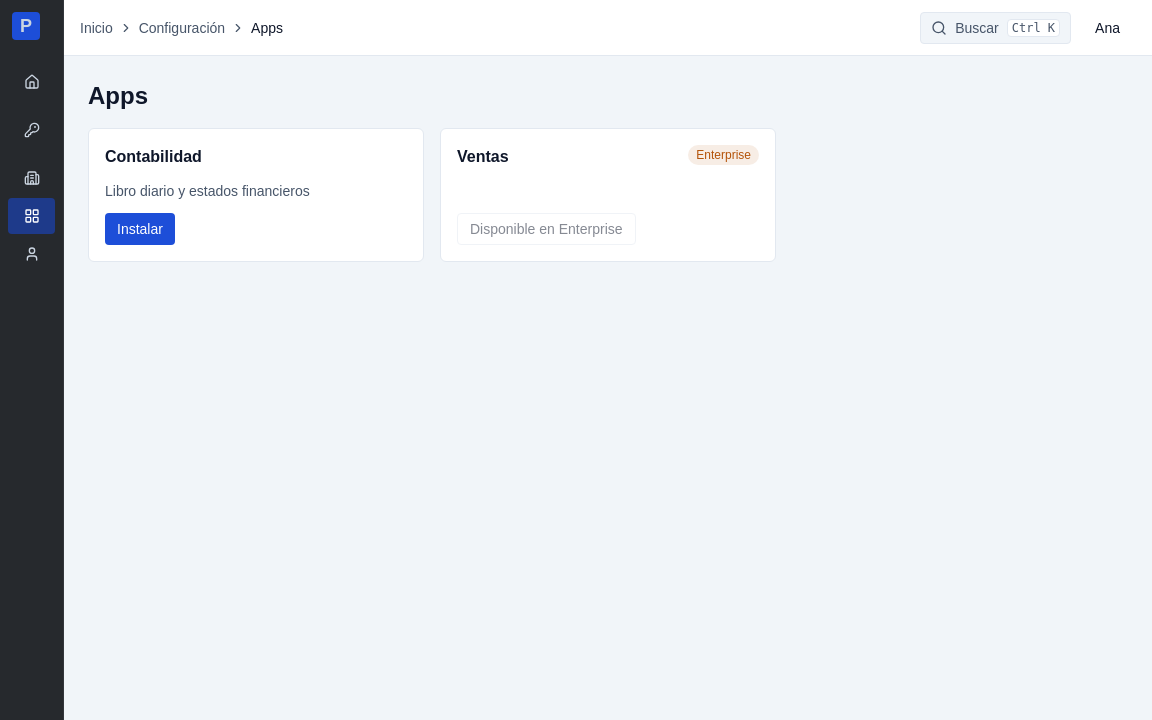
pantalla Apps (ADR-030) › un 403 PLT-011 muestra el mensaje de Enterprise
This screenshot has width=1152, height=720.
Click the button with aria-label "Instalar Contabilidad".
click(140, 229)  # box [105,213,175,245]
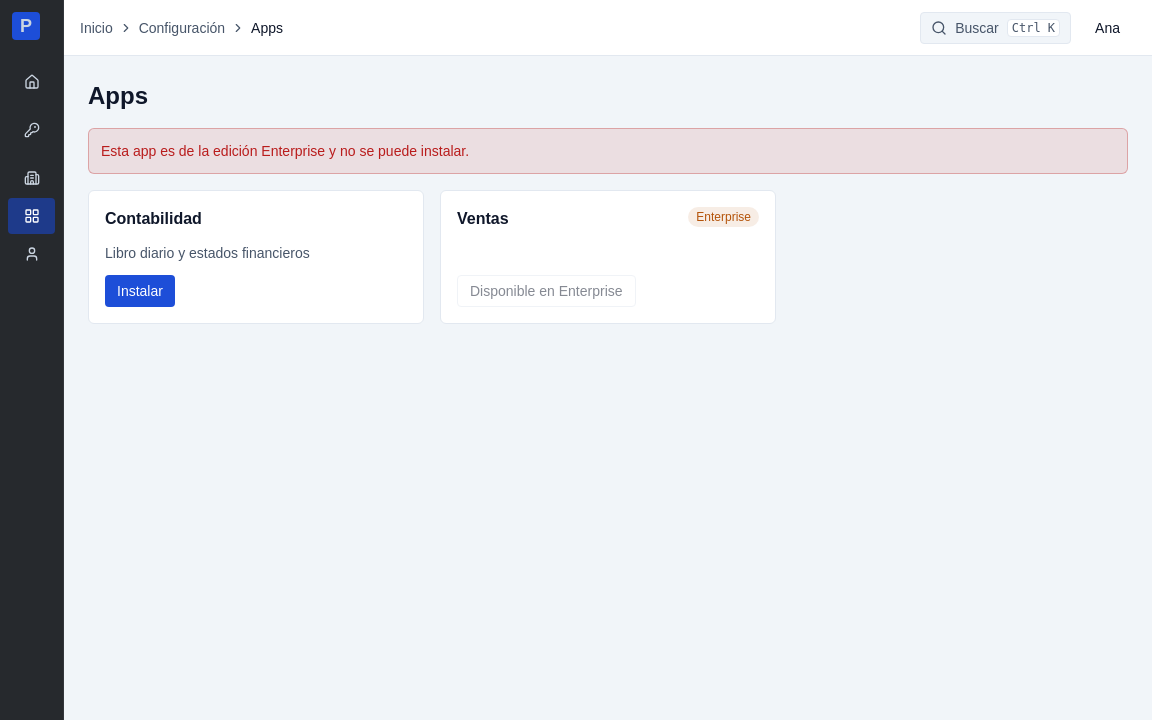
Expected: the message shows "edición Enterprise", [101,143,469,159]
